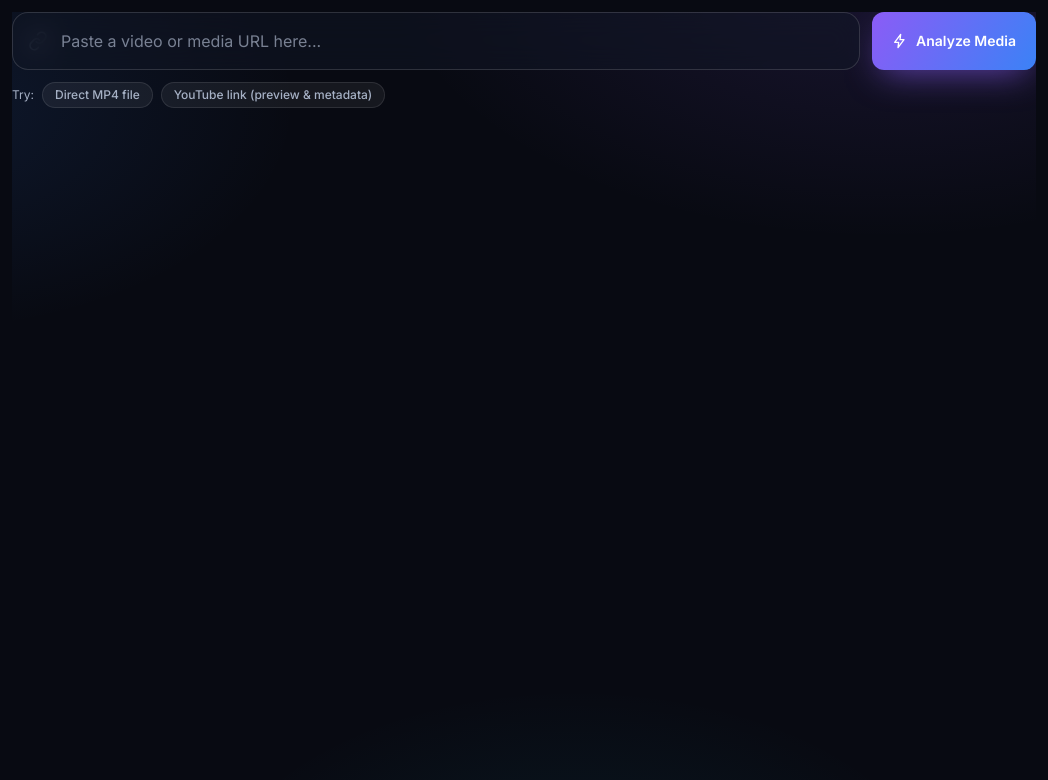
Test case: UrlAnalyzer › renders the media result card on success
In the field labelled "Paste a video or media URL here...": (436, 41) top-left (12, 12), bottom-right (860, 70), type "https://cdn.example.com/clip.mp4"
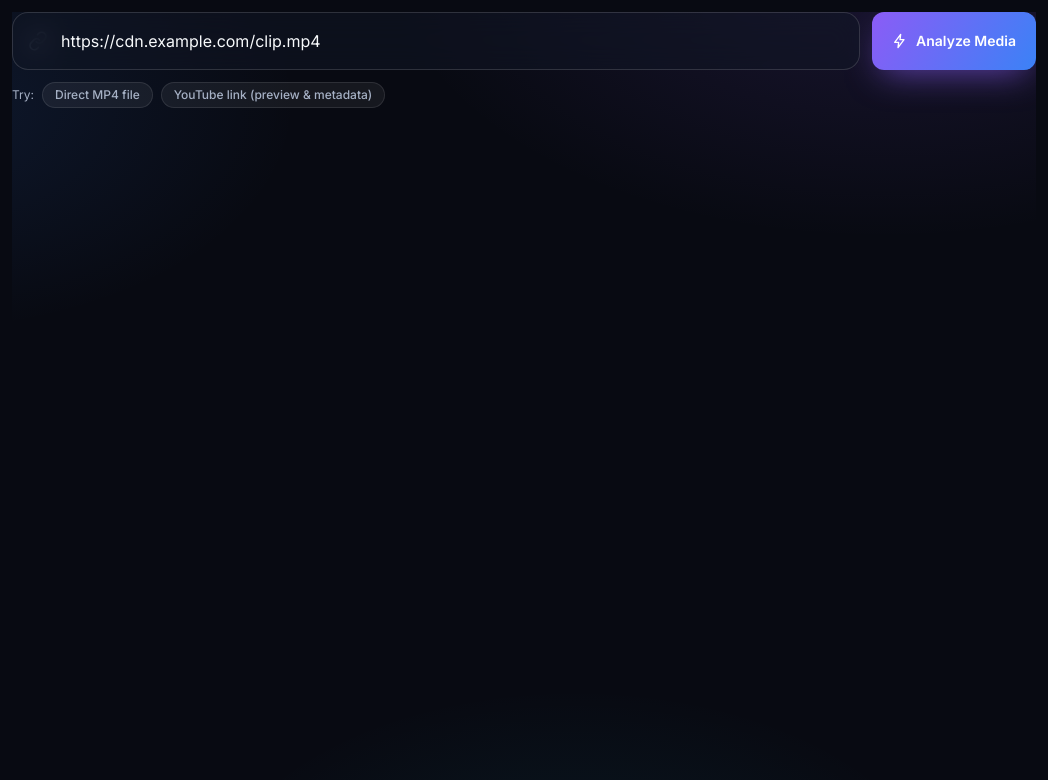
Submit the form named "media url", box top-left (12, 12), bottom-right (1036, 70)
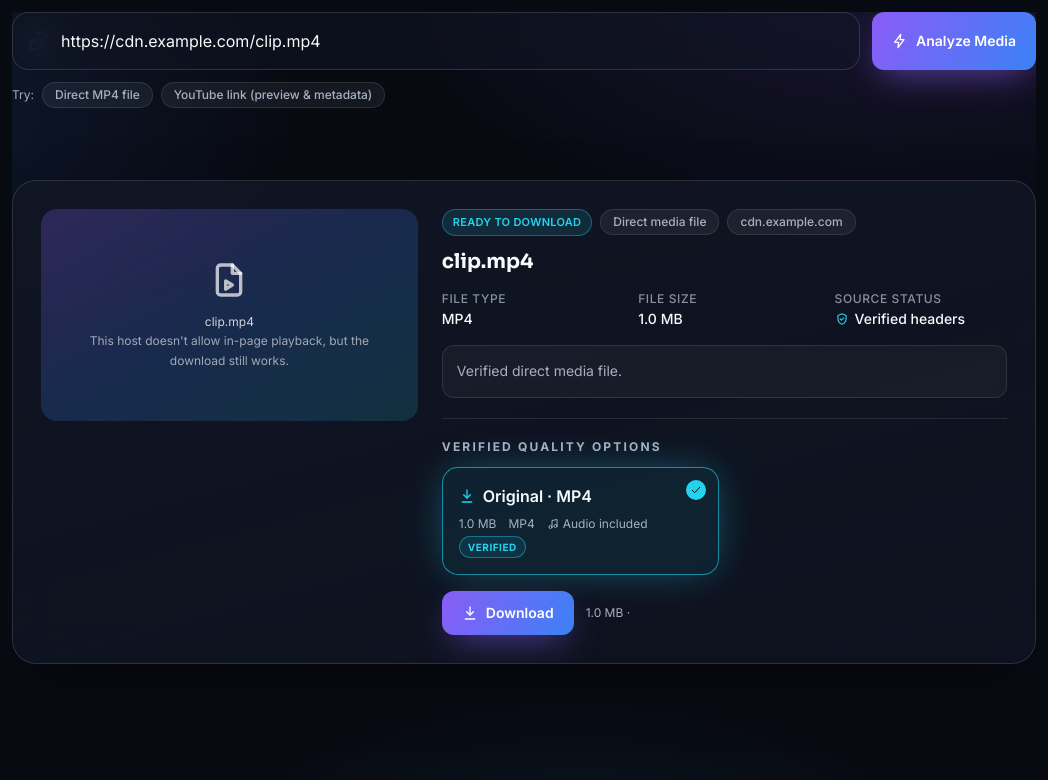
expect the text "Ready to download" is shown: met, box top-left (442, 209), bottom-right (592, 236)
expect the text "Verified quality options" is shown: met, box top-left (442, 439), bottom-right (662, 455)
expect the button "Download" is shown: met, box top-left (442, 591), bottom-right (574, 635)
